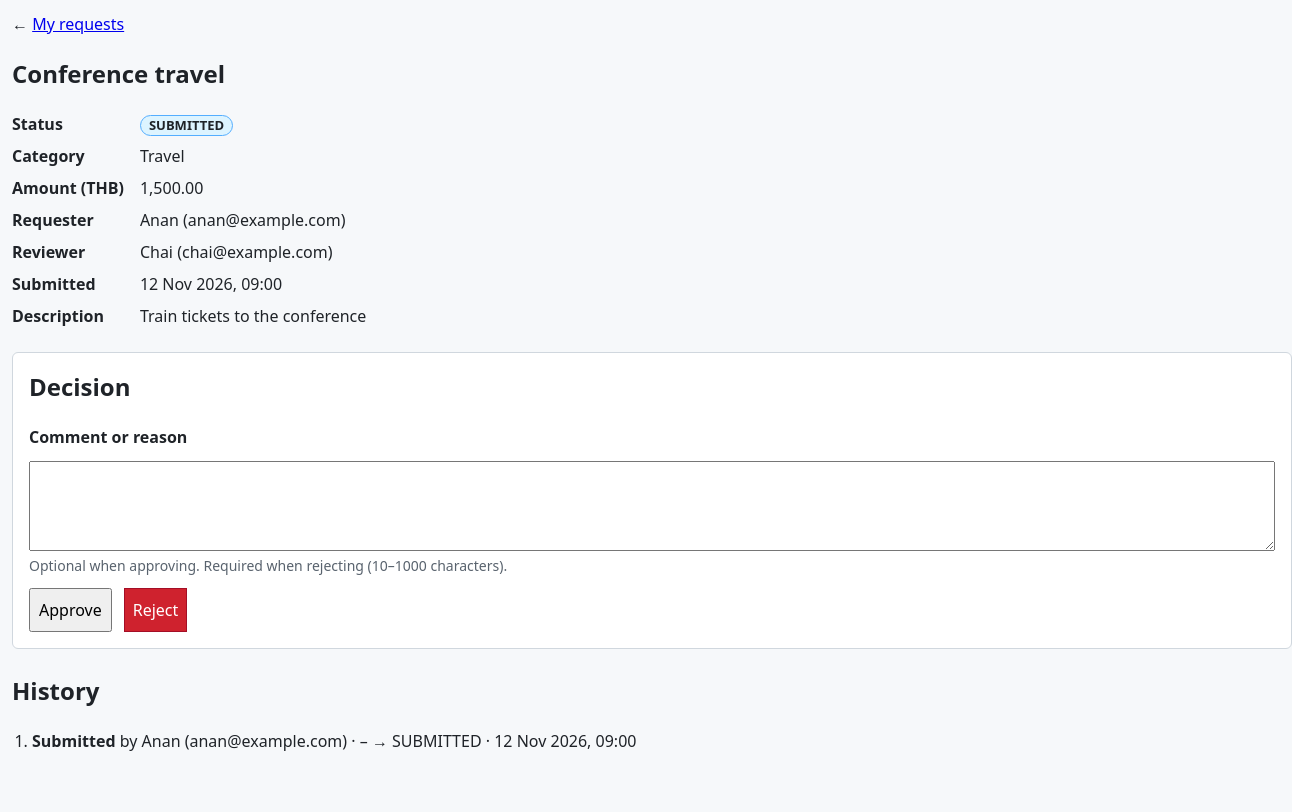
it: RequestDetailPage decisions (F-04b) › approves with a comment, locks the section while waiting, then shows the result
expect the element "Decision" is shown: met, box [12,352,1291,649]
Type "Fine, small amount" into the text box labelled "Comment or reason" at (652, 506), box [29,461,1275,551]
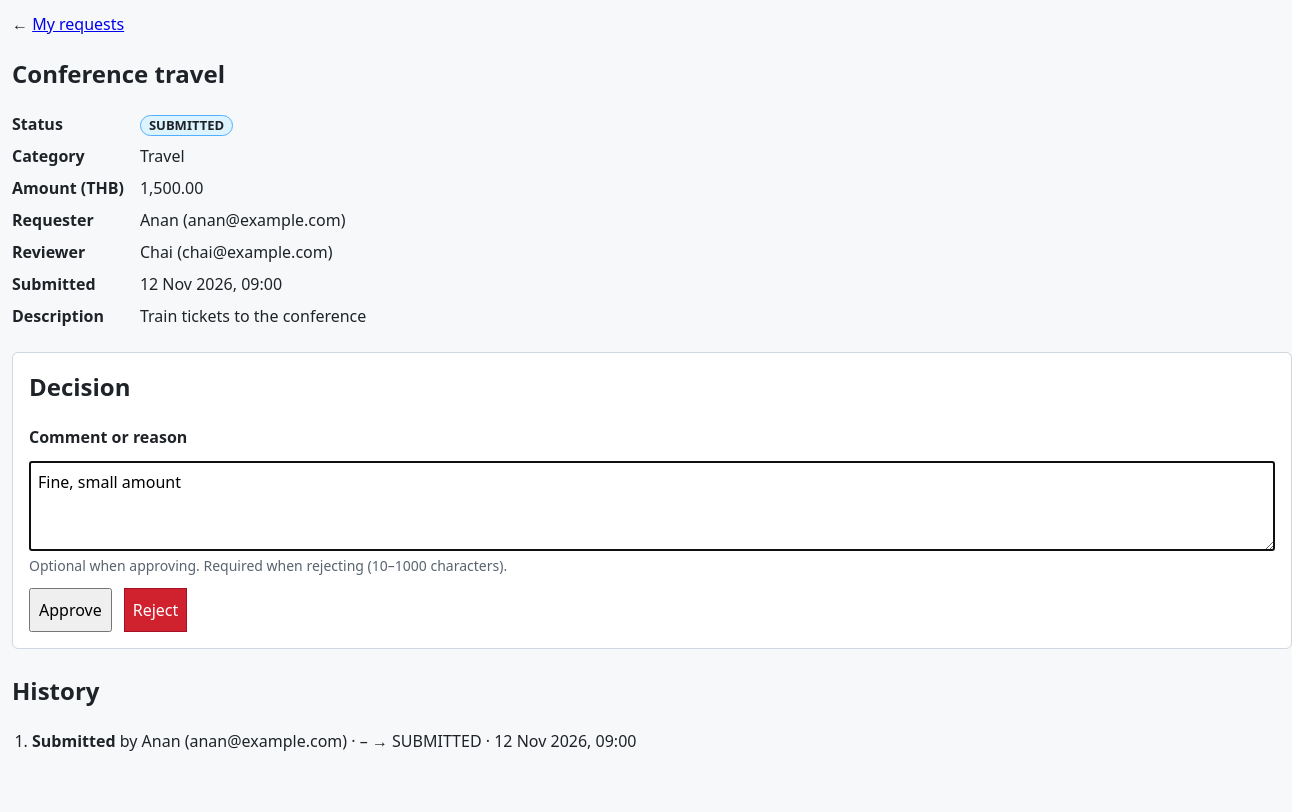
Click the button "Approve" at (70, 610), box [29,588,112,632]
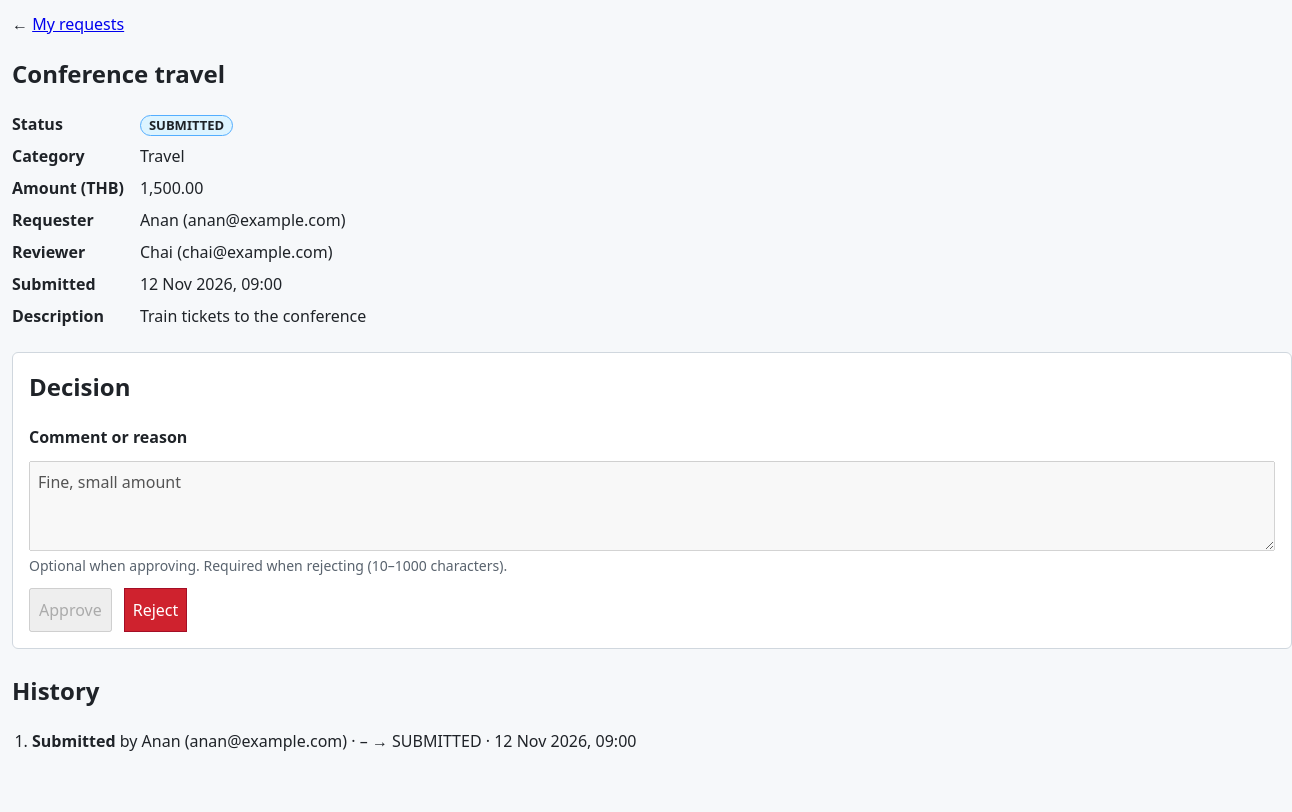
expect the text box labelled "Comment or reason" is disabled: met, box [29,461,1275,551]
expect the button "Reject" is disabled: met, box [124,588,187,632]
Click the button "Approve" at (70, 610), box [29,588,112,632]
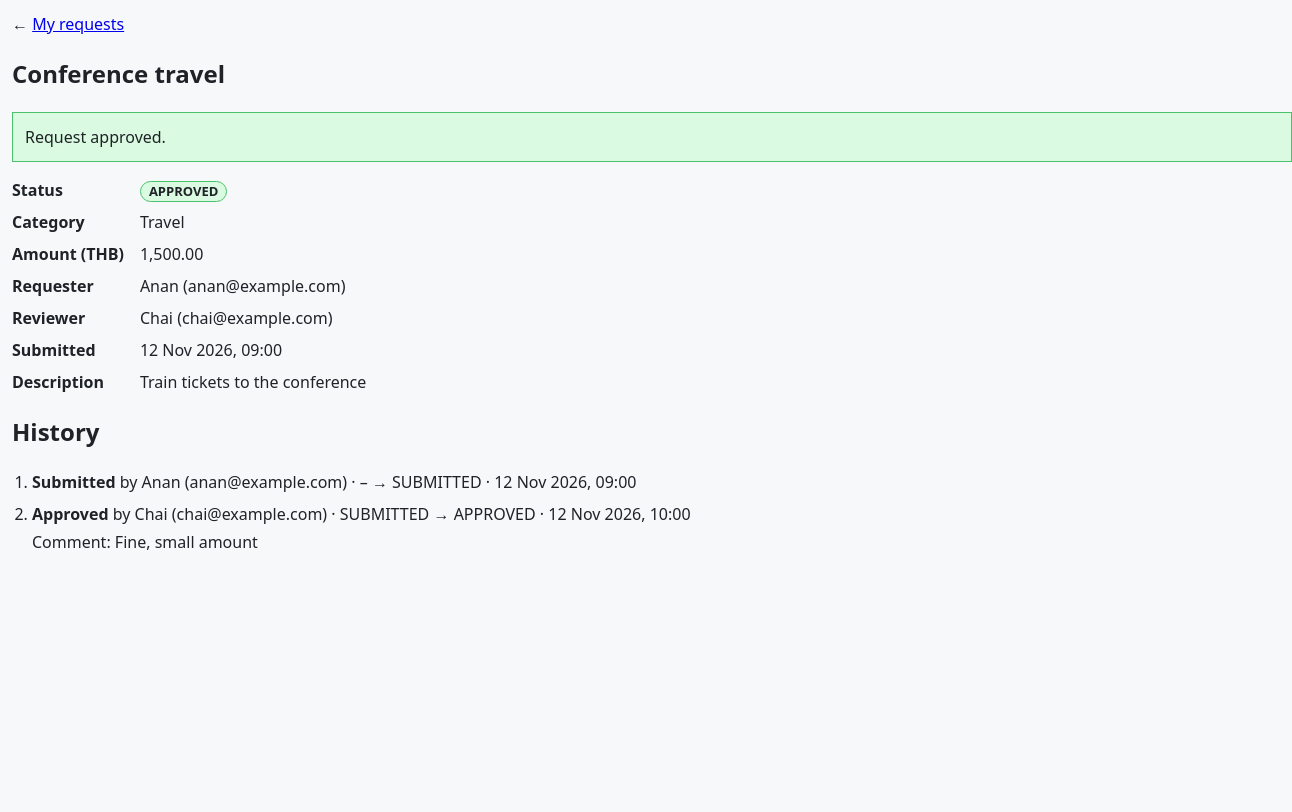
expect the message reads "Request approved.": met, box [25,126,166,148]
expect the element named "Request details" shows "APPROVED": met, box [149,182,218,200]
expect the number of list items is 2: met, box [32,471,636,493]; [32,503,690,553]
